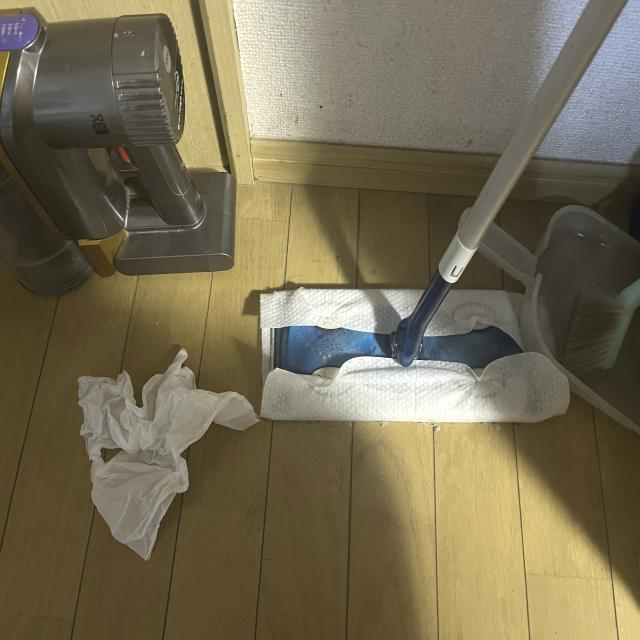Paper: (63, 359, 246, 550)
